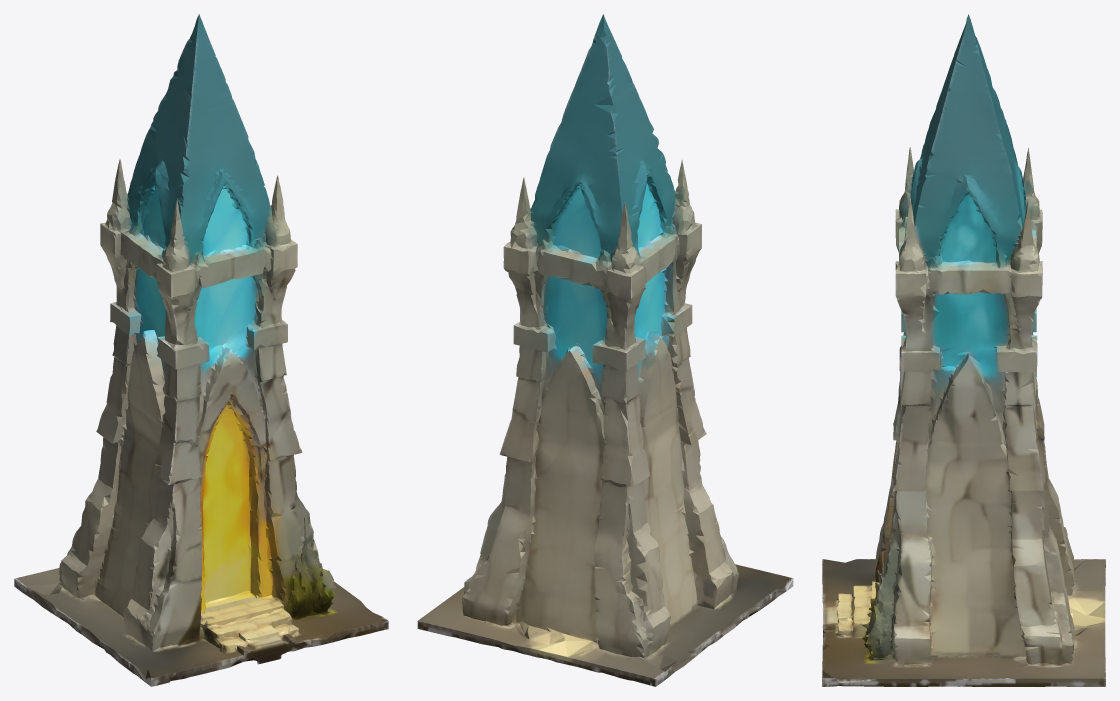
Rendered from nexus_tower.glb.
3 renders of one model, left to right at view 1: azimuth 30°, elevation 25°; view 2: azimuth 150°, elevation 25°; view 3: azimuth 270°, elevation 25°, orthographic. The views are drawn at different scales.
Parts seen in each view (by area): view 1: NexusTower; view 2: NexusTower; view 3: NexusTower.
Boxes of the visible parts, left/top/right/bottom form: NexusTower: left=14, top=14, right=388, bottom=686; NexusTower: left=417, top=14, right=793, bottom=686; NexusTower: left=822, top=14, right=1105, bottom=686.
Size of the model in its own units: 0.7905 by 1.9 by 0.7917.
1 material, 1 textured.
